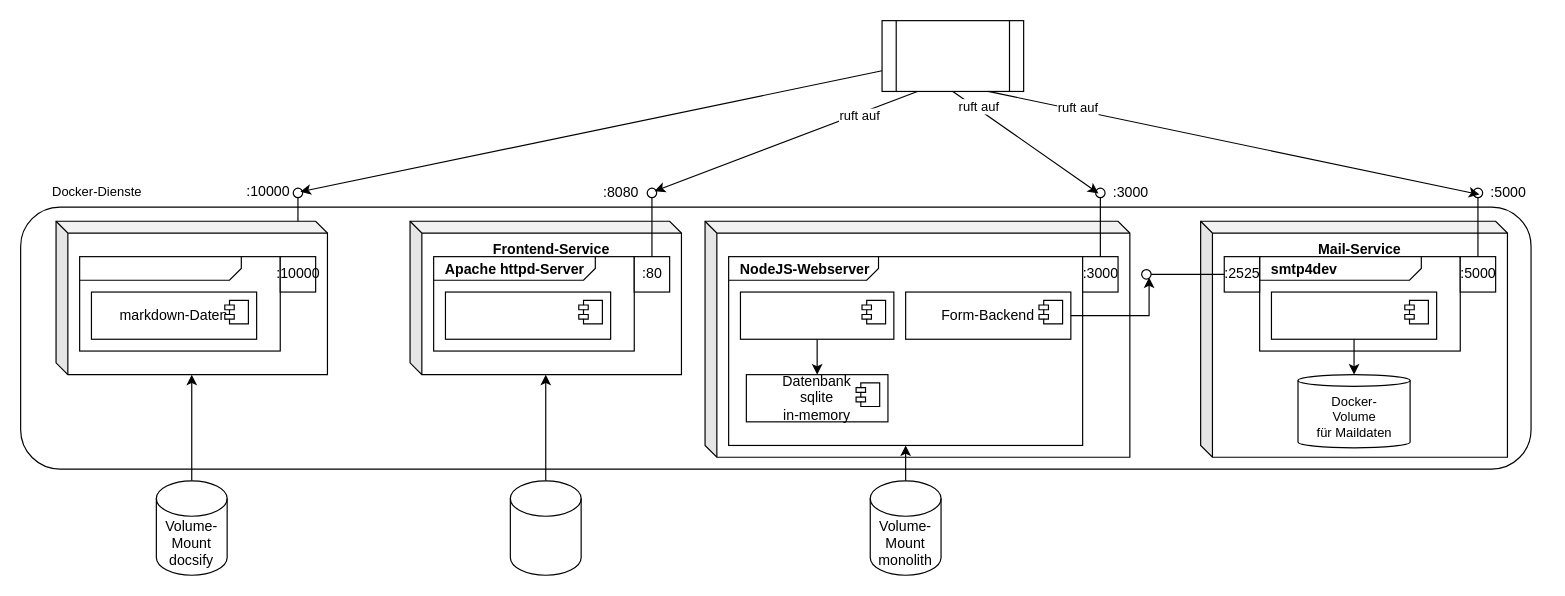
The diagram is 1565 pixels wide and 596 high, and some of its shapes have lost their labels. Here are the shapes that lost their labels. From the top down, the box of each, then its label:
(881, 19, 1024, 91): Client Browser
(78, 255, 280, 351): docsify-Server
(55, 220, 327, 375): Dokumentations-Dienst
(444, 291, 611, 339): statische Seiten
(739, 291, 894, 339): Demo-/Text- API
(1270, 291, 1437, 339): smtp-Server und Web-App
(704, 220, 1130, 457): Monolith
(509, 480, 581, 575): Volume-Mount site-folder
